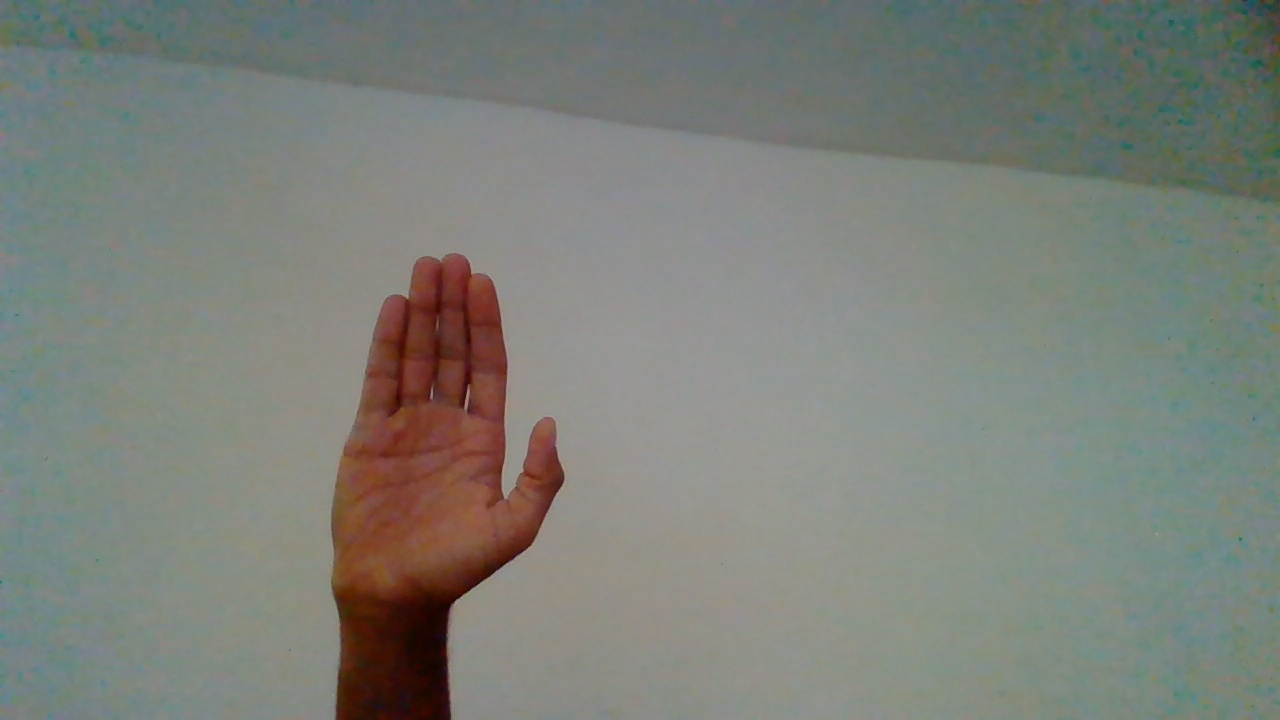ha: (328, 251, 566, 645)
